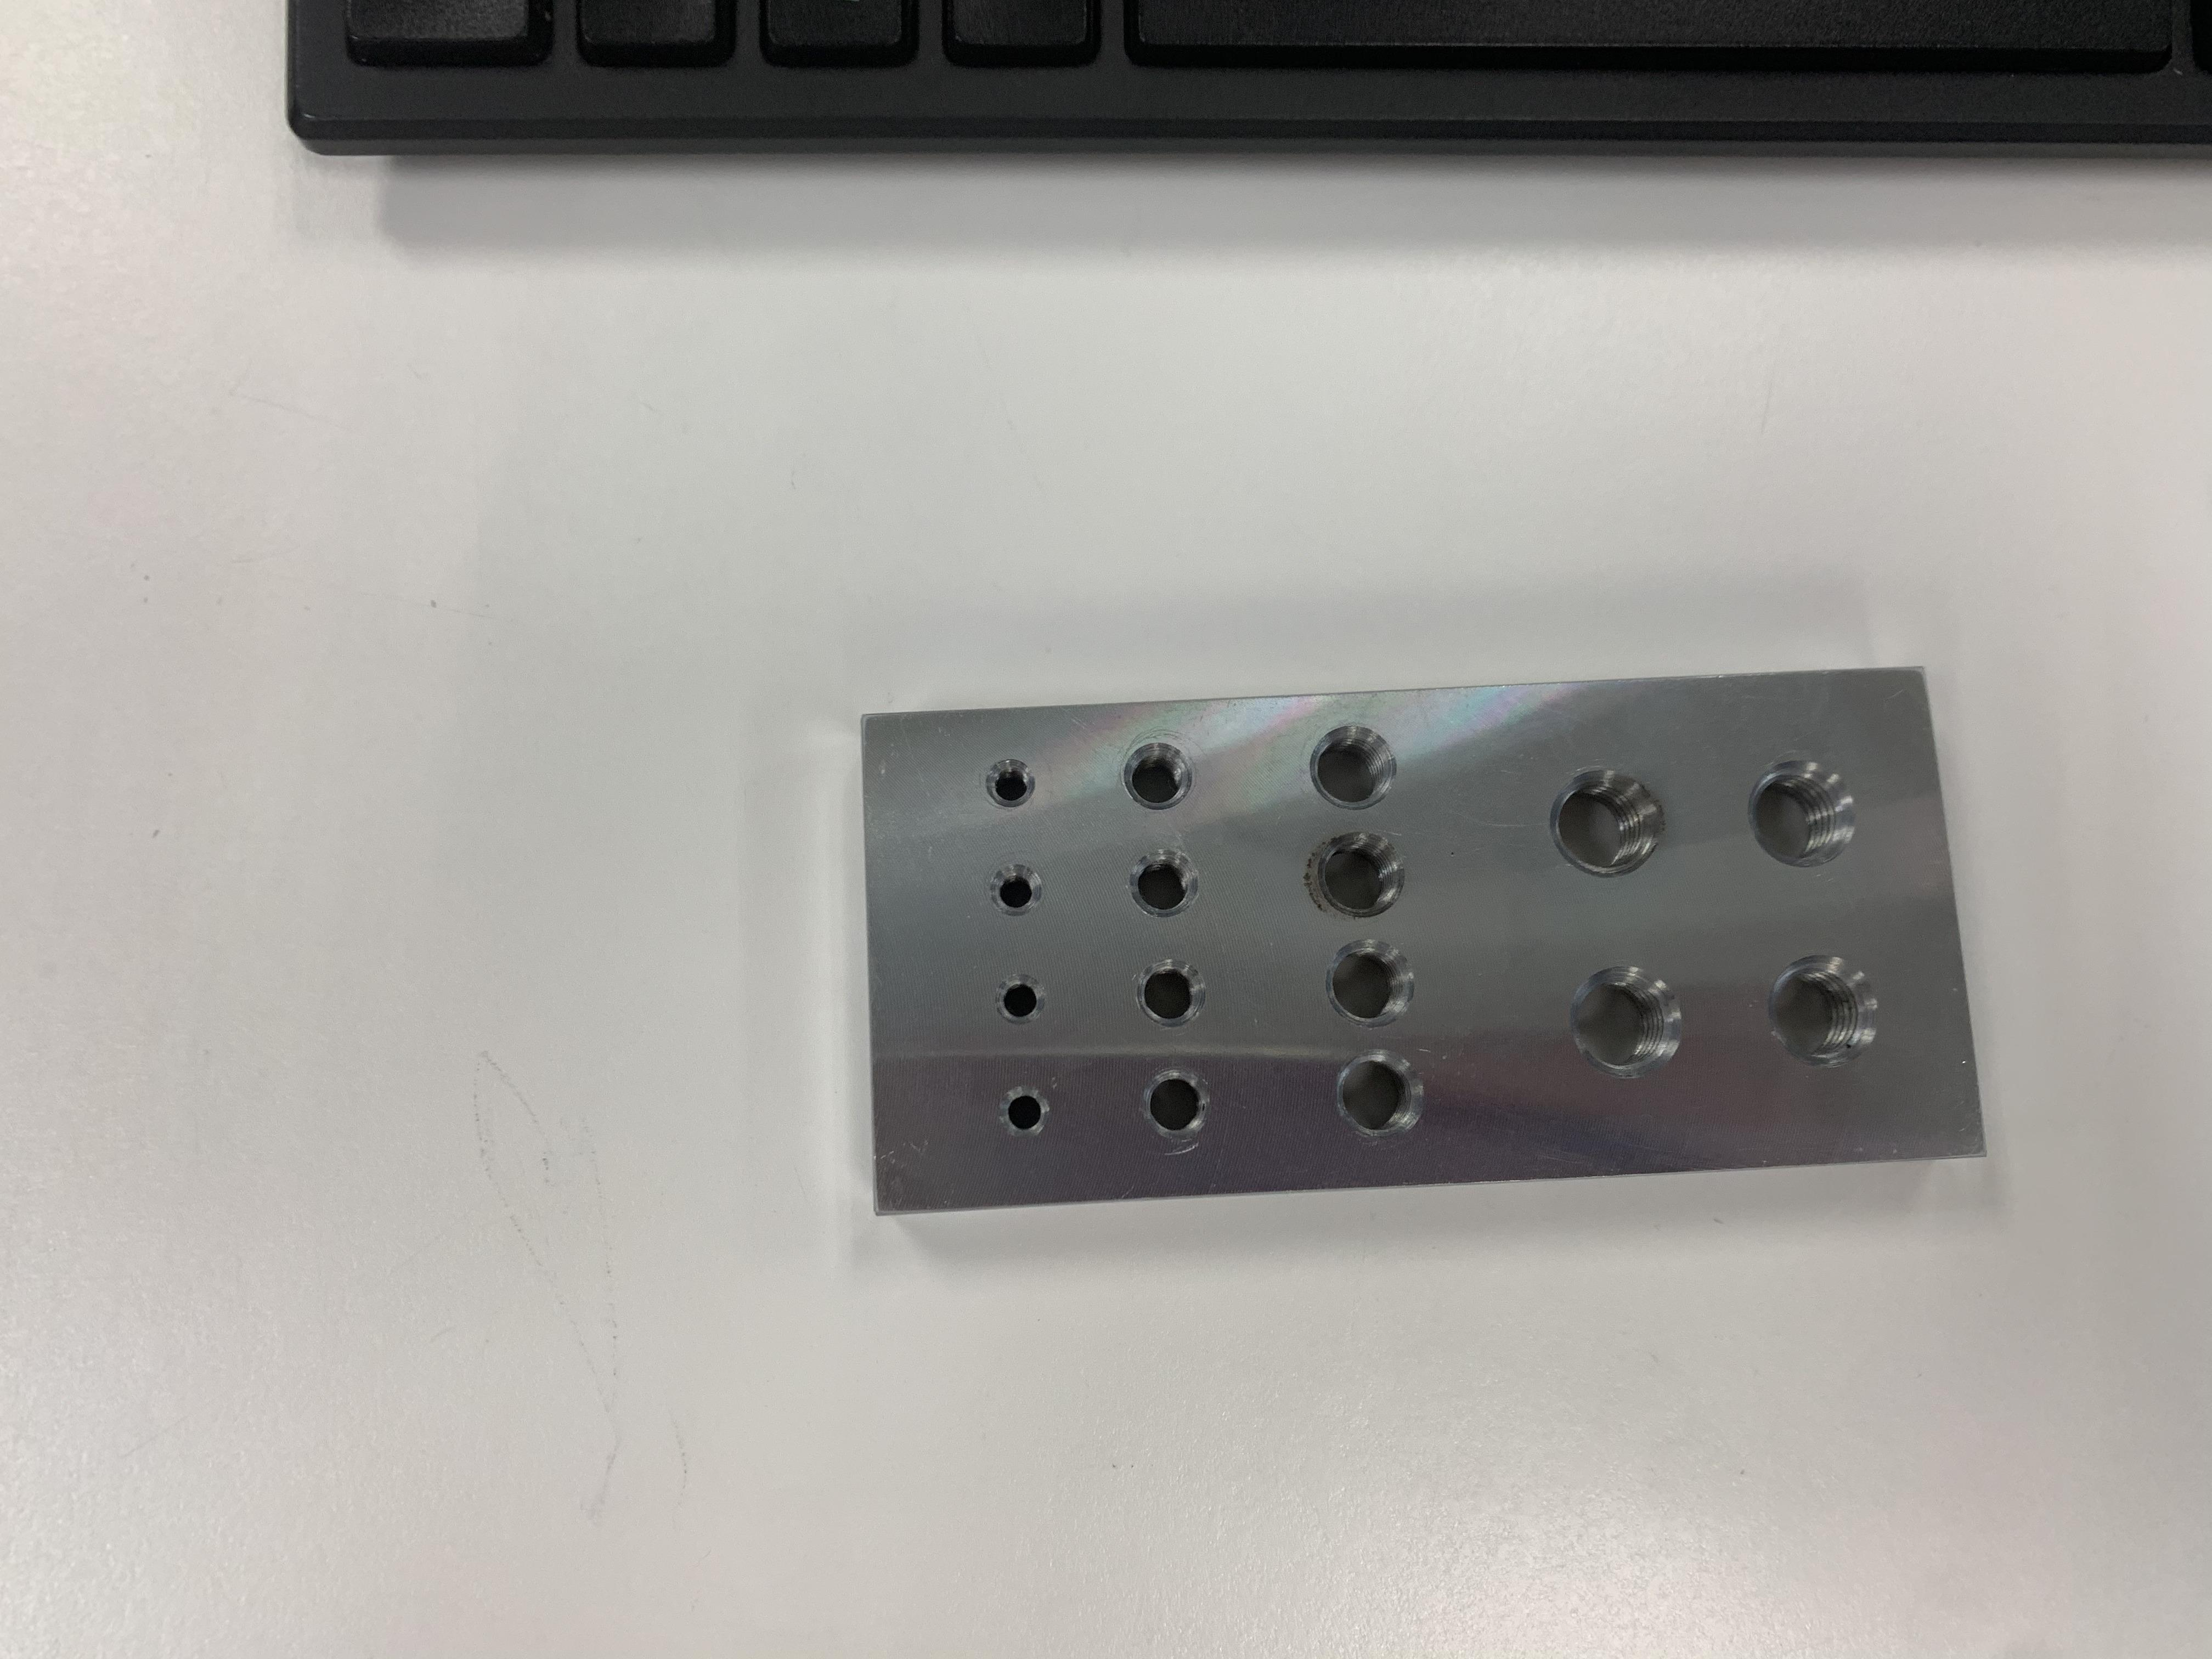hole: (1533, 748, 1683, 906), (1555, 948, 1693, 1089), (1733, 739, 1874, 877), (1756, 939, 1892, 1077), (1320, 1044, 1439, 1148), (1292, 718, 1404, 821), (1301, 826, 1414, 925), (1315, 934, 1426, 1033), (1120, 951, 1221, 1047), (1113, 723, 1200, 826), (1120, 836, 1207, 932), (1136, 1061, 1224, 1154), (979, 1079, 1068, 1147), (982, 852, 1055, 929), (974, 741, 1043, 821), (986, 969, 1064, 1032)
